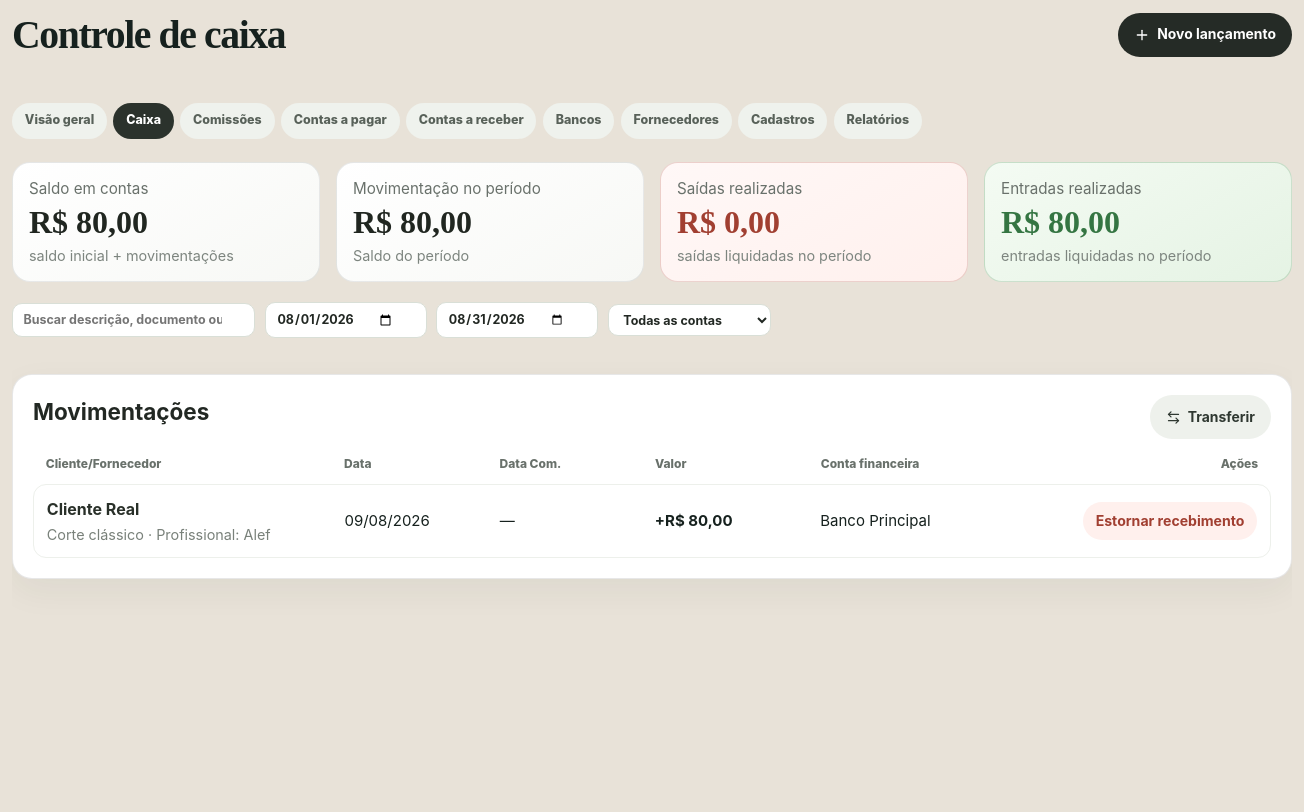
Test case: cash manager › filters manual entries and keeps appointment receipts visibly linked
Expected: the heading "Controle de caixa" is shown, x1=12 y1=15 x2=285 y2=57
Expected: the text "Movimentação no período" is shown, x1=353 y1=179 x2=541 y2=198
Type "aluguel" into the field with placeholder "Buscar descrição, documento ou contraparte".
click(134, 320); type("aluguel")  # box x1=12 y1=303 x2=255 y2=337
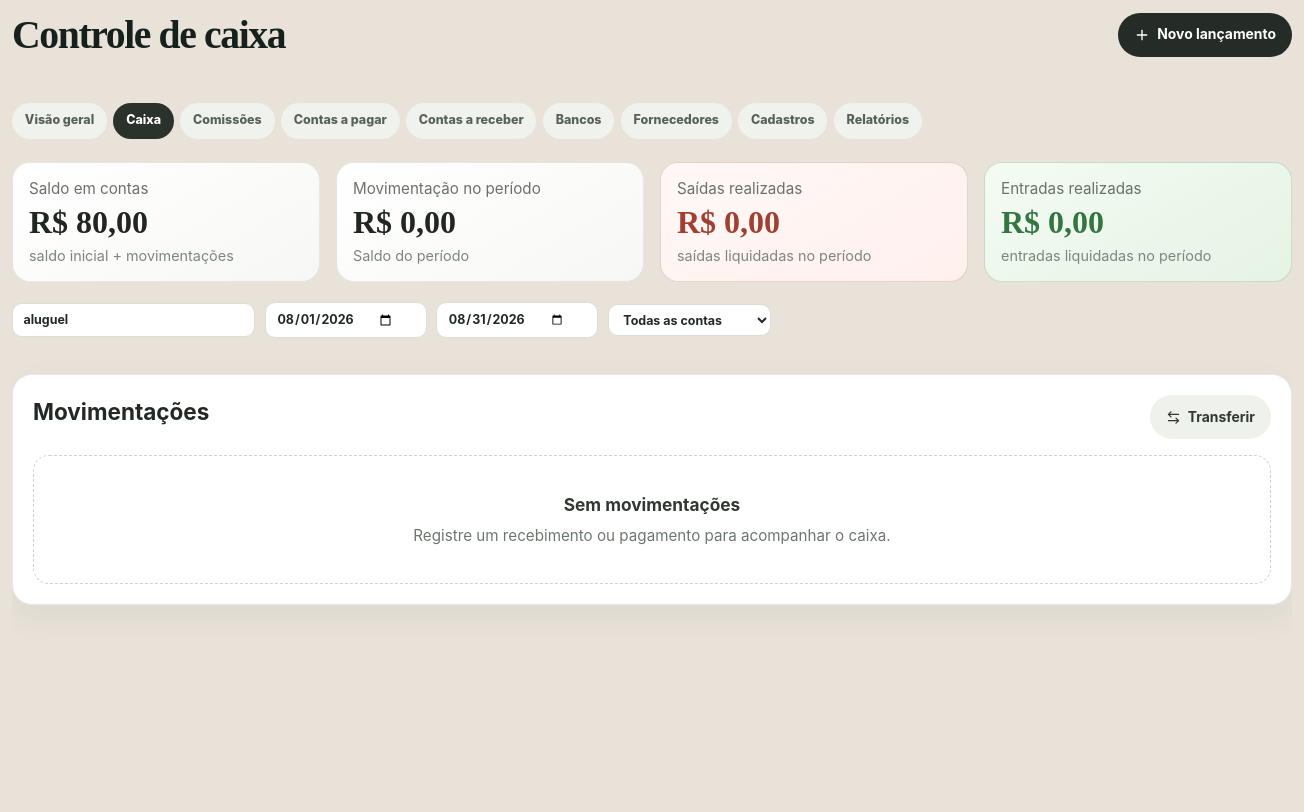
Expected: the text "Corte clássico · Profissional: Alef" is gone
